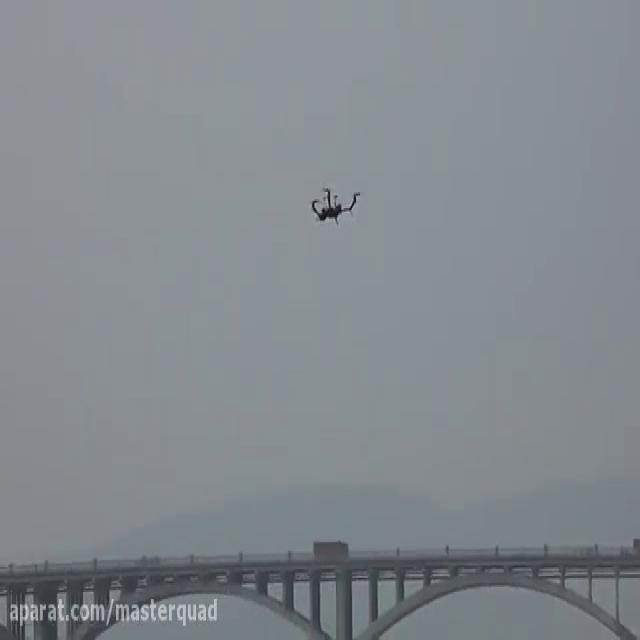drone: (306, 180, 365, 230)
